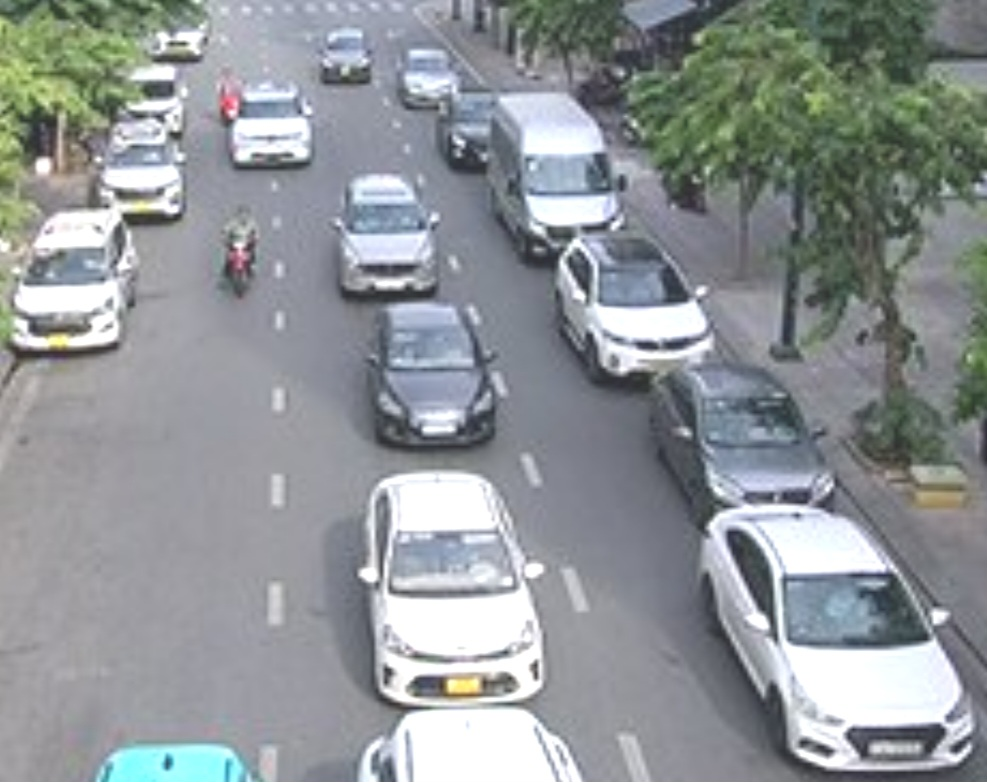car: (702, 515, 973, 770), (360, 474, 551, 707), (648, 372, 838, 511), (557, 238, 714, 380), (485, 100, 626, 240), (363, 305, 502, 446), (11, 208, 138, 351), (336, 175, 439, 297), (94, 128, 191, 220), (226, 87, 319, 169), (121, 65, 190, 132), (402, 48, 458, 110), (317, 28, 374, 83)
